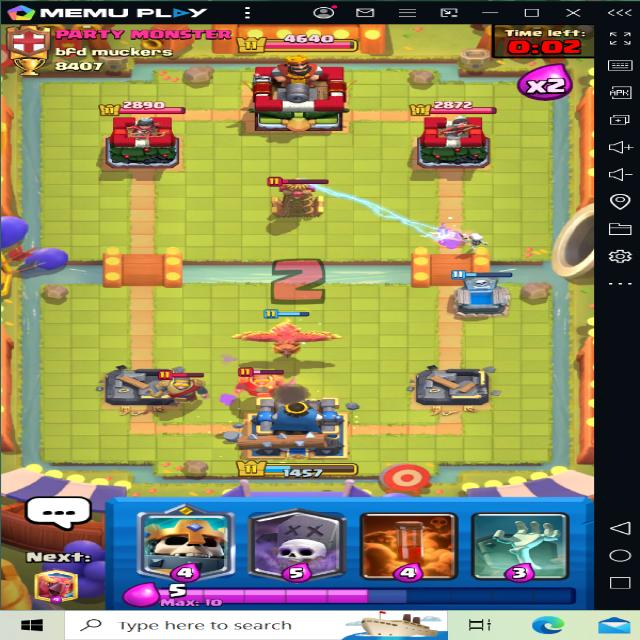Knight: (124, 361, 210, 412), (235, 361, 292, 412)
Tesla: (260, 170, 338, 228)
